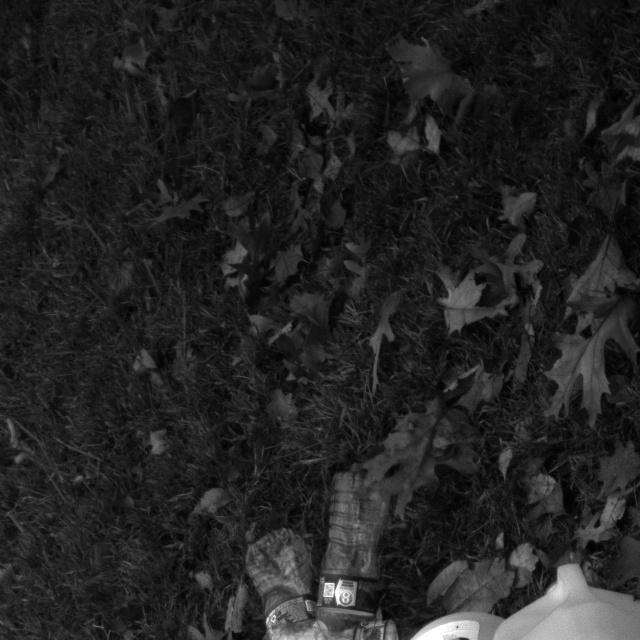bottle: (306, 467, 398, 640), (237, 529, 323, 640)
can: (491, 562, 640, 640)
